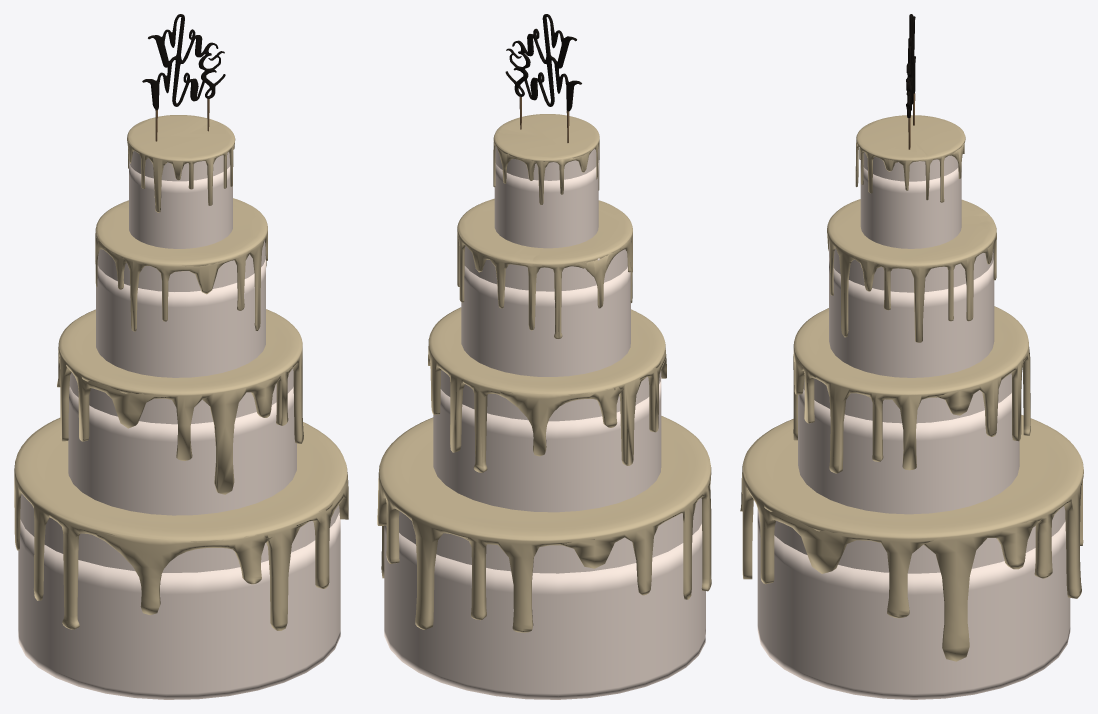
File: 4-tier-white-ganache-mrms.glb
3 views of the same model, side by side, from view 1: azimuth 30°, elevation 25°; view 2: azimuth 150°, elevation 25°; view 3: azimuth 270°, elevation 25° (orthographic).
Parts seen in each view (by area): view 1: 3.001, tHE ICING.008, 3, 2, tHE ICING.007, tHE ICING.006, 1, tHE ICING.009, mrms.004; view 2: 3.001, tHE ICING.008, 3, 2, tHE ICING.007, tHE ICING.006, 1, tHE ICING.009, mrms.004; view 3: 3.001, tHE ICING.008, 3, 2, tHE ICING.007, tHE ICING.006, 1, tHE ICING.009, mrms.004.
Part boxes in pixels (left/top/right/bottom): 3.001: left=18, top=494, right=340, bottom=699; tHE ICING.008: left=14, top=418, right=348, bottom=630; 3: left=68, top=368, right=296, bottom=515; 2: left=96, top=235, right=265, bottom=377; tHE ICING.007: left=57, top=309, right=303, bottom=494; tHE ICING.006: left=95, top=198, right=267, bottom=331; 1: left=129, top=151, right=232, bottom=248; tHE ICING.009: left=127, top=115, right=235, bottom=212; mrms.004: left=142, top=14, right=225, bottom=141; 3.001: left=384, top=497, right=705, bottom=699; tHE ICING.008: left=377, top=416, right=711, bottom=632; 3: left=433, top=370, right=661, bottom=512; 2: left=461, top=245, right=630, bottom=376; tHE ICING.007: left=428, top=307, right=666, bottom=472; tHE ICING.006: left=457, top=198, right=632, bottom=339; 1: left=494, top=146, right=598, bottom=248; tHE ICING.009: left=493, top=114, right=599, bottom=204; mrms.004: left=505, top=14, right=581, bottom=142; 3.001: left=757, top=506, right=1070, bottom=699; tHE ICING.008: left=740, top=415, right=1083, bottom=661; 3: left=798, top=373, right=1019, bottom=514; 2: left=829, top=242, right=994, bottom=377; tHE ICING.007: left=793, top=306, right=1030, bottom=473; tHE ICING.006: left=827, top=199, right=996, bottom=342; 1: left=860, top=152, right=961, bottom=248; tHE ICING.009: left=855, top=115, right=965, bottom=202; mrms.004: left=906, top=14, right=915, bottom=149.
Bounding box in the file's own units: 4.52 × 9.28 × 4.69.
